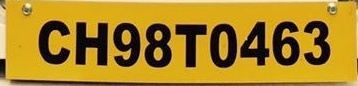character: (74, 19, 109, 66), (174, 22, 207, 68), (37, 19, 70, 64), (239, 20, 269, 66), (302, 19, 331, 66), (112, 21, 140, 67), (209, 22, 237, 68), (272, 20, 300, 66), (145, 22, 171, 67)
